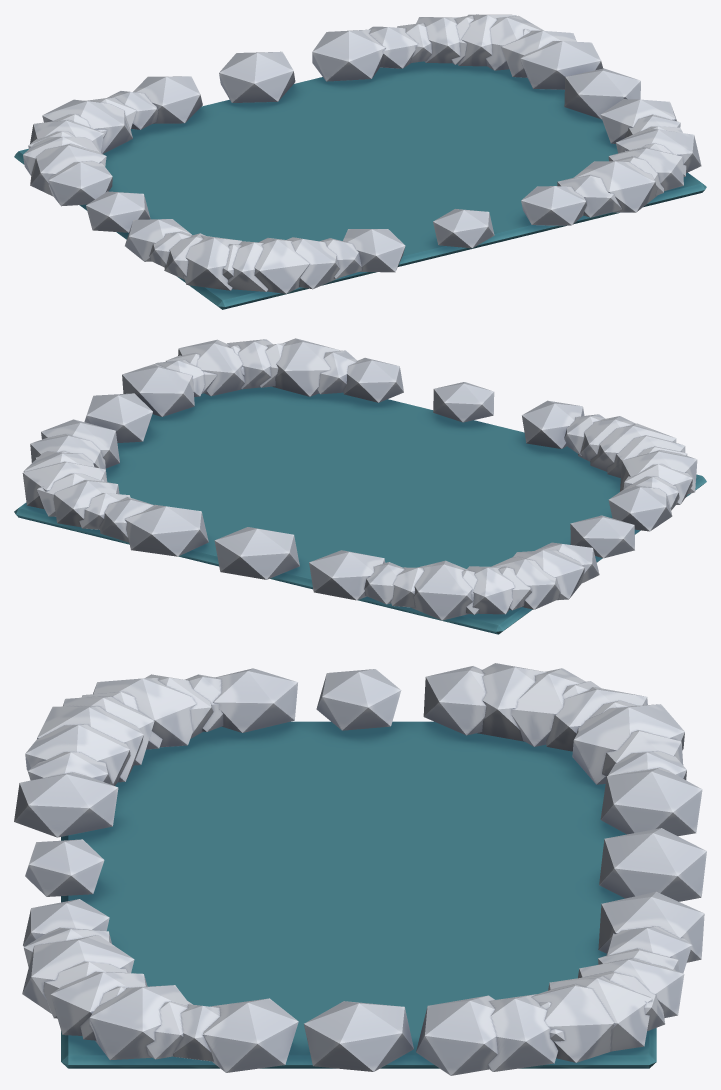
Rendered from prop_pond.glb.
The picture shows the model from 3 angles, top to bottom: view 1: azimuth 30°, elevation 25°; view 2: azimuth 150°, elevation 25°; view 3: azimuth 270°, elevation 25°; orthographic projection. The views are drawn at different scales.
Visible parts, largest first — view 1: prop; view 2: prop; view 3: prop.
Part boxes in pixels (left/top/right/bottom): prop: left=14, top=14, right=706, bottom=309; prop: left=14, top=338, right=706, bottom=634; prop: left=14, top=663, right=706, bottom=1075.
Bounding box in the file's own units: 12.11 × 1.1 × 9.31.
Materials: 1 (1 with a texture image).
